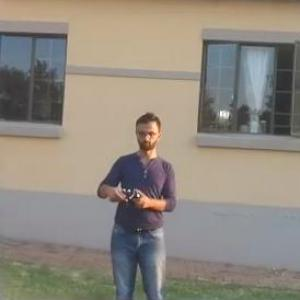follow: (90, 103, 183, 299)
